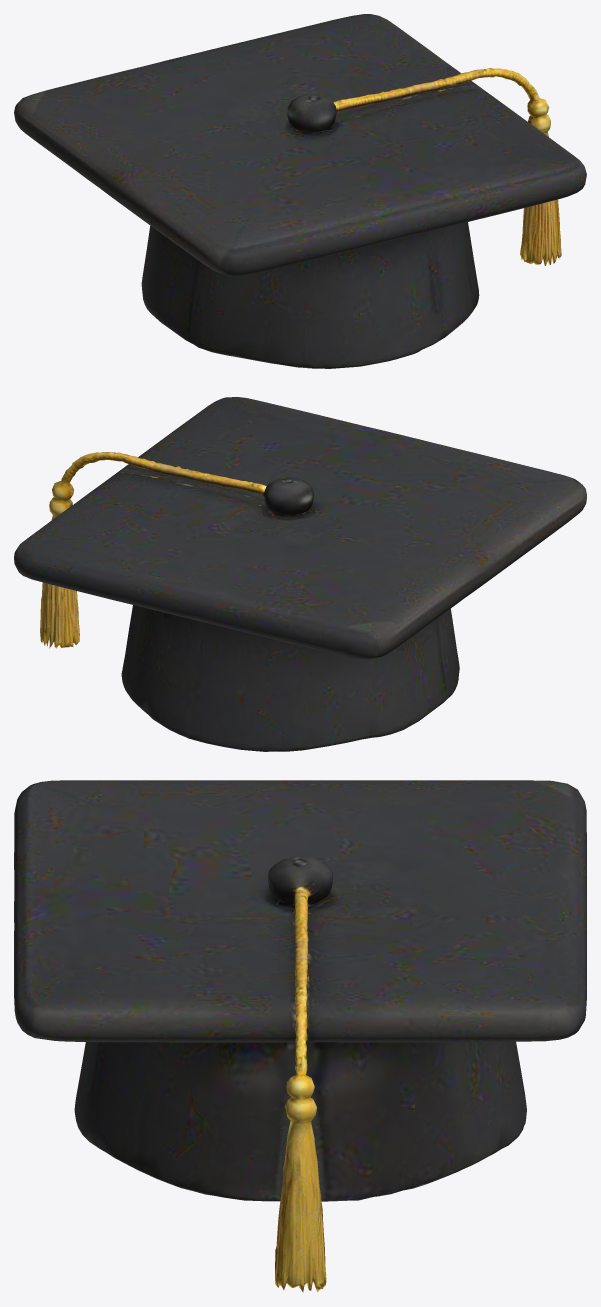
3 views of the same model, one above another, from view 1: azimuth 30°, elevation 25°; view 2: azimuth 150°, elevation 25°; view 3: azimuth 270°, elevation 25° (orthographic). The views are drawn at different scales.
Bounding box in the file's own units: 2 × 0.9302 × 1.73.
Materials: 1 (1 with a texture image).
